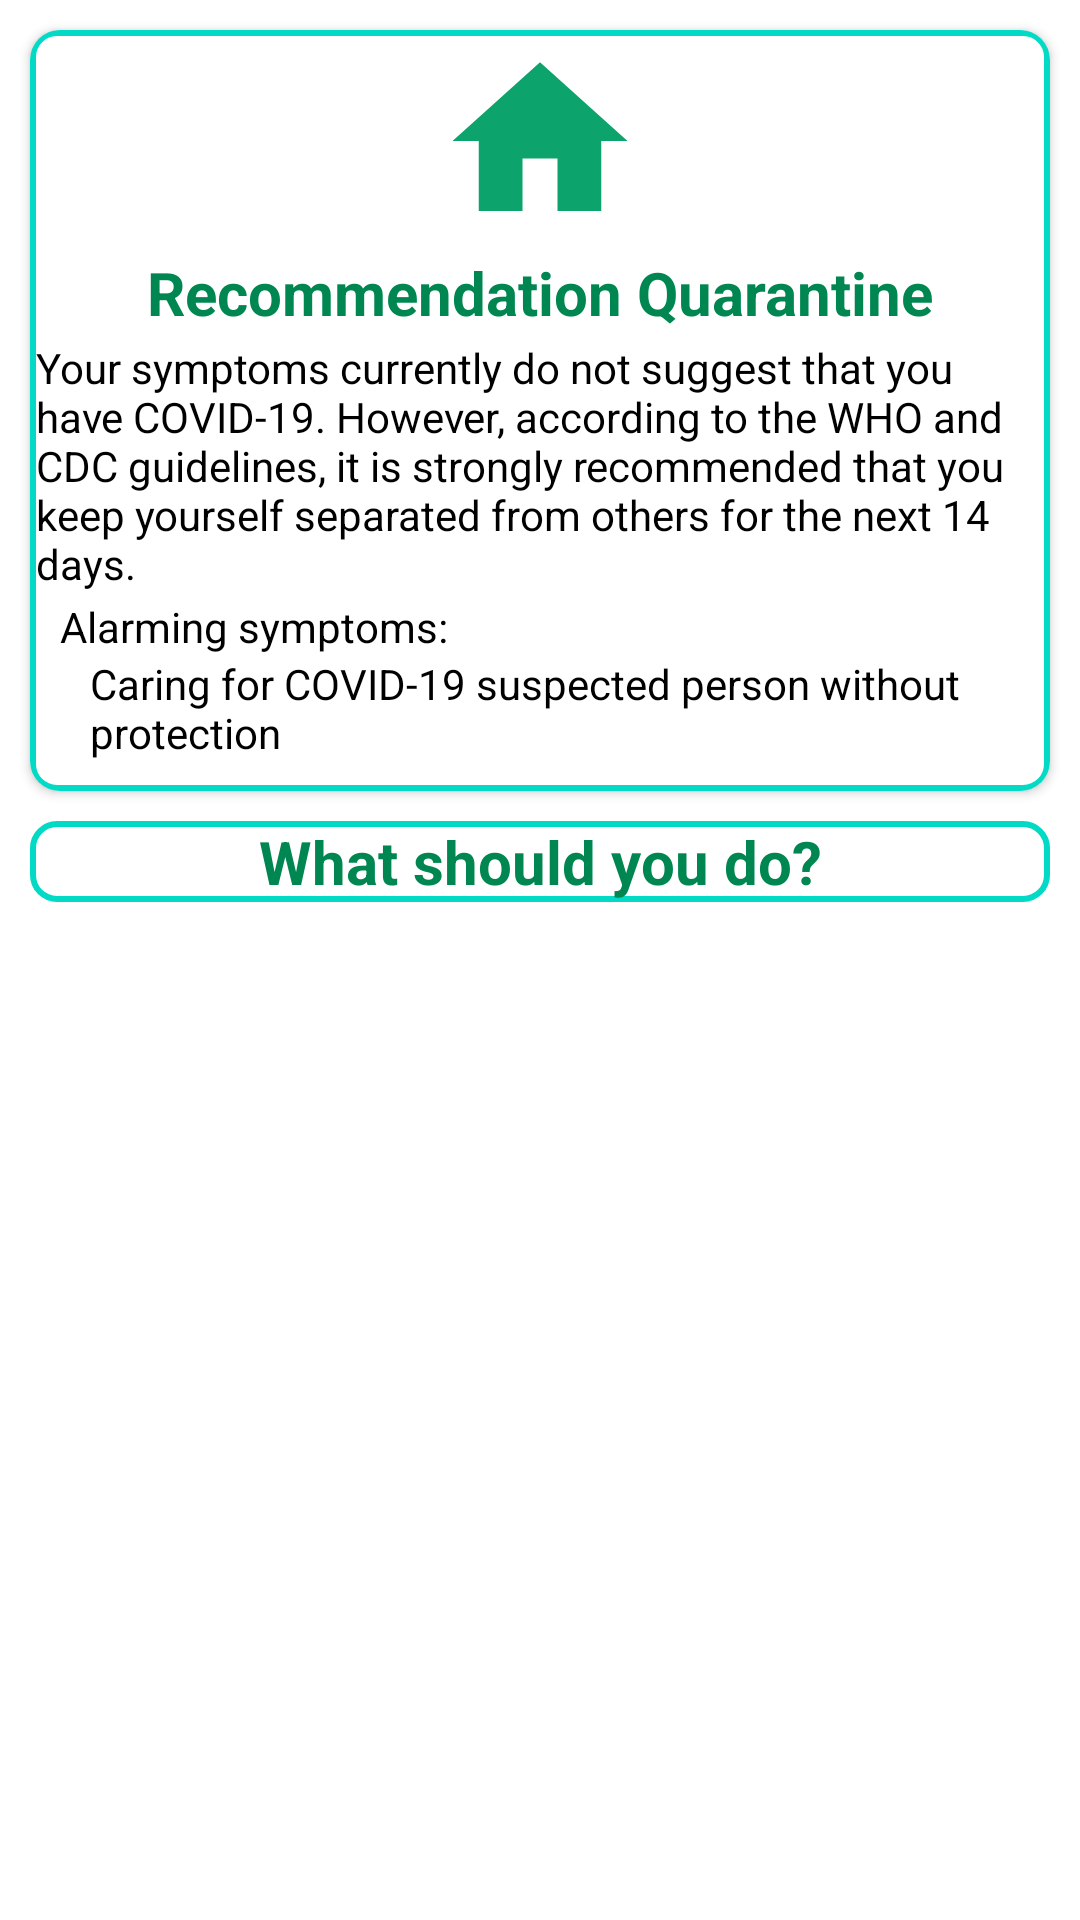

Where to tap for icons on this 1080 × 1920 app screen, as [x,y]:
home: [540,136]
